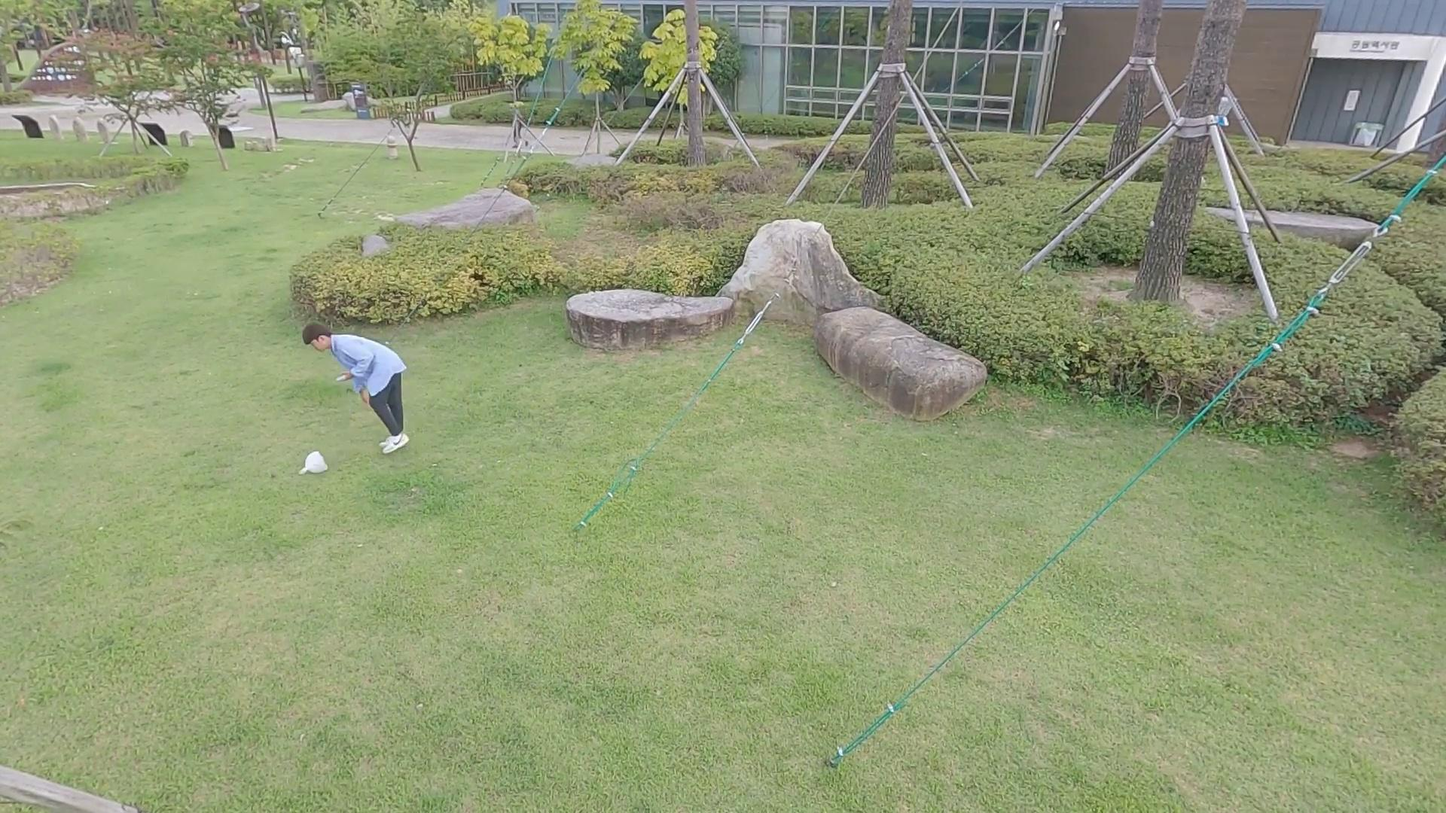person: (300, 321, 415, 454)
trash: (296, 449, 331, 477)
